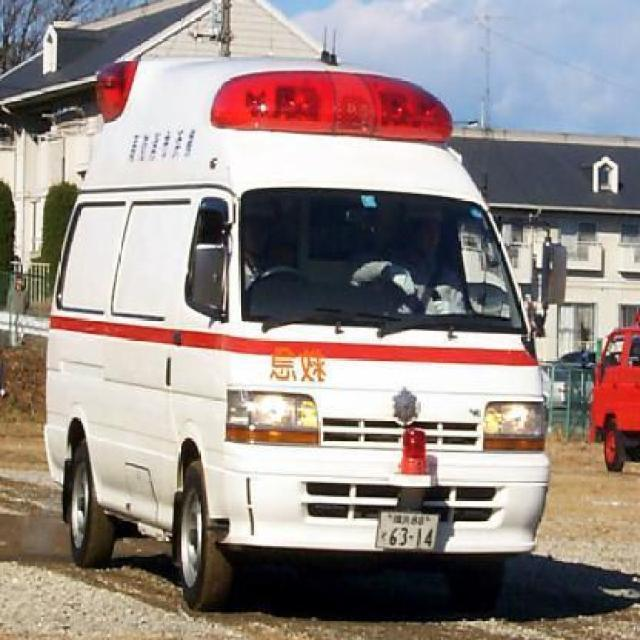emergency: (42, 29, 554, 612)
